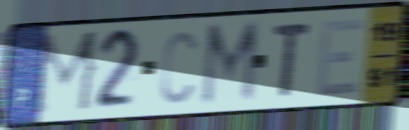2: (90, 26, 146, 117)
C: (158, 28, 200, 107)
E: (314, 15, 367, 100)
M: (30, 28, 103, 119), (198, 17, 262, 110)
T: (271, 20, 313, 100)
